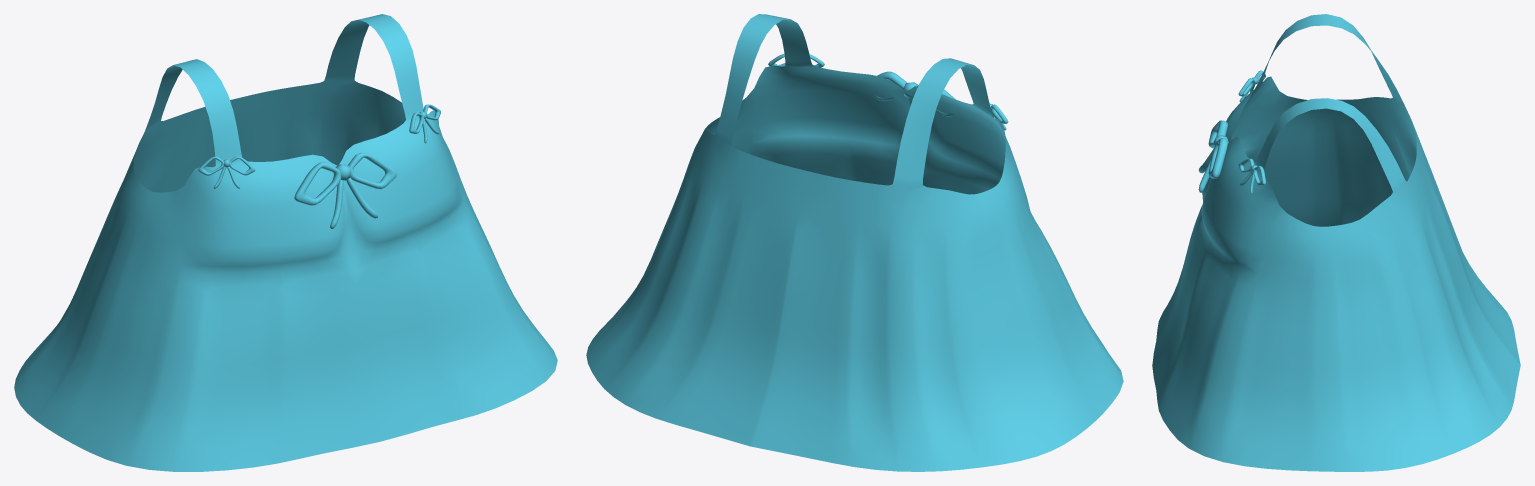
Rendered from Top_Kokette.fbx.
The picture shows the model from 3 angles, left to right: view 1: azimuth 30°, elevation 25°; view 2: azimuth 150°, elevation 25°; view 3: azimuth 270°, elevation 25°; orthographic projection. The views are drawn at different scales.
Parts seen in each view (by area): view 1: Without_Sleeves.001, Cube.001, Cube.005, Cube.002; view 2: Without_Sleeves.001; view 3: Without_Sleeves.001, Cube.001, Cube.005.
Boxes of the visible parts, <box> form: Without_Sleeves.001: <box>14,14,557,471</box>; Cube.001: <box>294,152,397,205</box>; Cube.005: <box>198,104,440,188</box>; Cube.002: <box>330,177,377,228</box>; Without_Sleeves.001: <box>586,14,1123,471</box>; Without_Sleeves.001: <box>1152,14,1520,471</box>; Cube.001: <box>1208,120,1228,178</box>; Cube.005: <box>1238,70,1265,194</box>.
Size of the model in its own units: 108 by 72.44 by 79.29.
